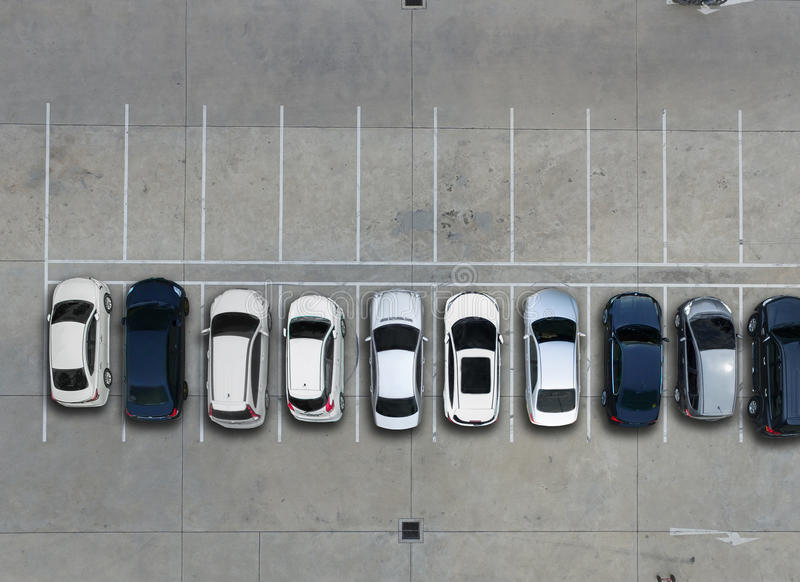Car: (119, 276, 189, 425), (206, 288, 271, 434), (49, 275, 114, 412), (602, 291, 664, 434), (519, 288, 581, 430), (669, 294, 737, 423), (366, 288, 425, 435), (285, 294, 346, 422), (445, 290, 500, 431), (747, 295, 800, 441)
LaneMark: (37, 258, 798, 267), (194, 280, 800, 287), (40, 100, 51, 442), (275, 281, 288, 446), (667, 526, 763, 548), (197, 98, 209, 262), (429, 286, 441, 446), (196, 282, 207, 445), (119, 100, 130, 260), (430, 102, 440, 261), (353, 283, 363, 442), (352, 103, 362, 261), (507, 285, 516, 449), (276, 104, 285, 261), (735, 106, 744, 261), (508, 102, 516, 265), (736, 286, 744, 448), (583, 104, 591, 261), (662, 286, 669, 446), (662, 106, 669, 262), (585, 283, 591, 446)
